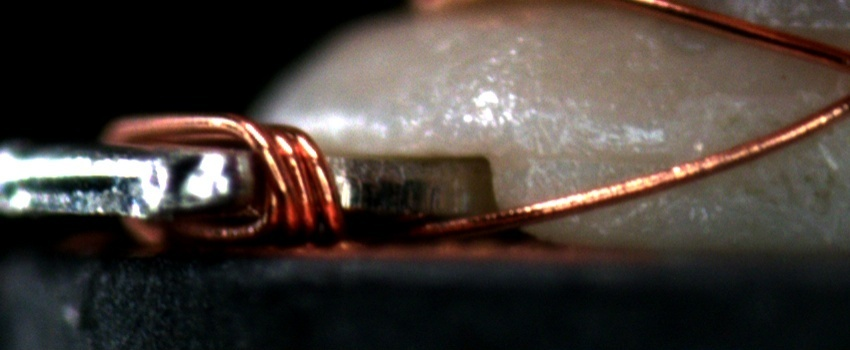DL: (525, 125, 668, 193)
TE: (100, 106, 348, 246)
